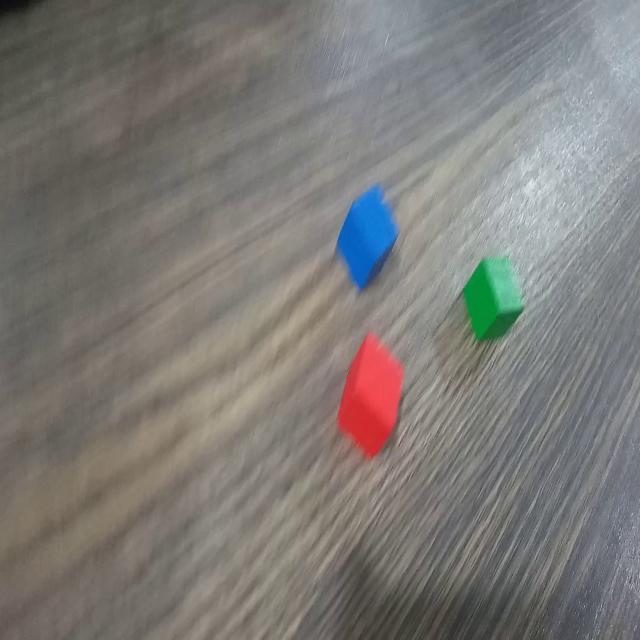cube: (335, 328, 406, 462), (332, 182, 399, 298), (461, 253, 526, 341)
